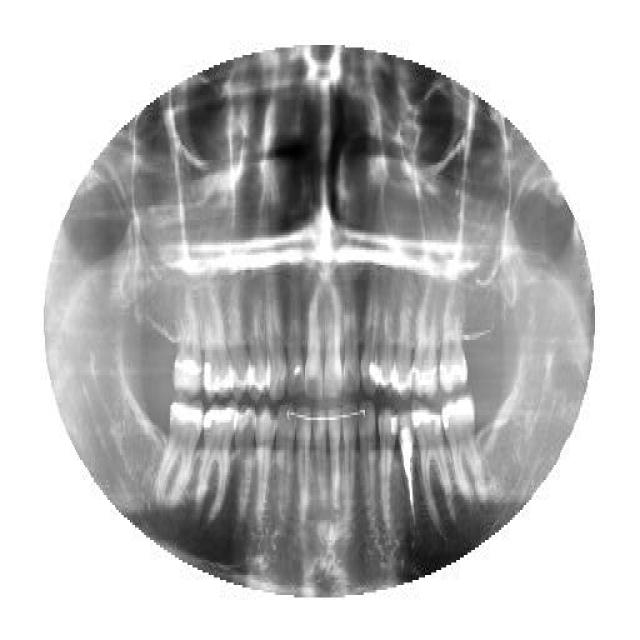Fillings: (410, 410, 456, 528), (195, 403, 239, 525), (443, 395, 485, 503), (200, 290, 234, 398), (171, 285, 201, 397), (392, 278, 413, 392)
Implant: (395, 413, 417, 525)
